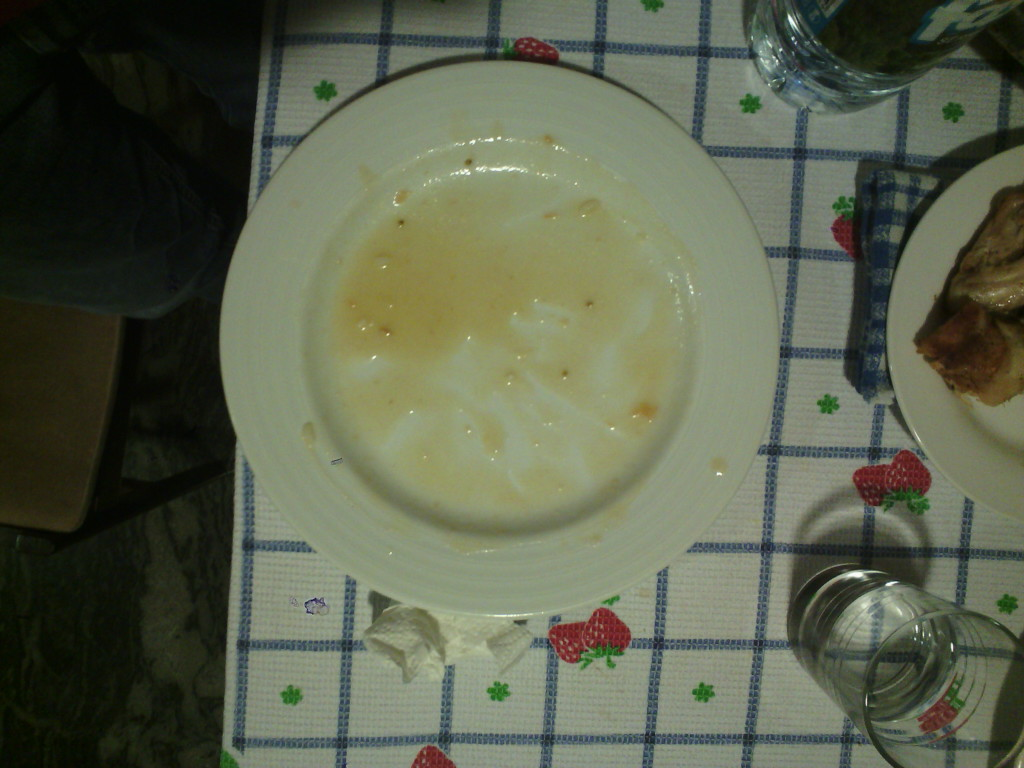0-20: (214, 55, 779, 624)
